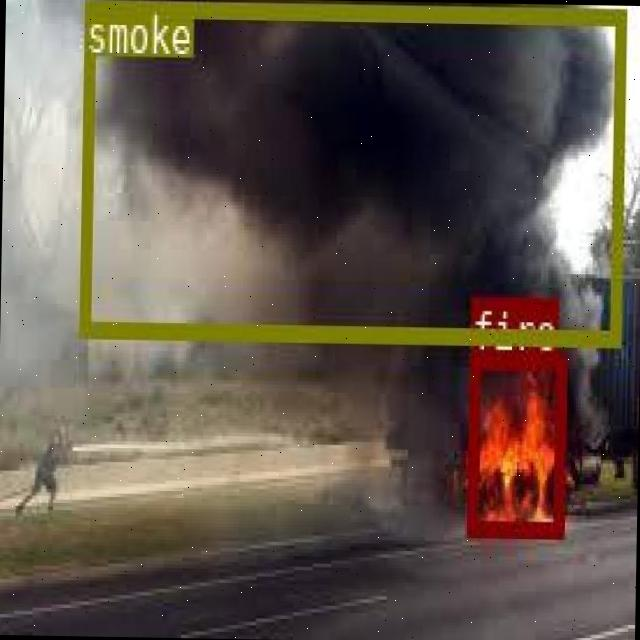fire: (466, 348, 564, 534)
smoke: (78, 0, 624, 343)
